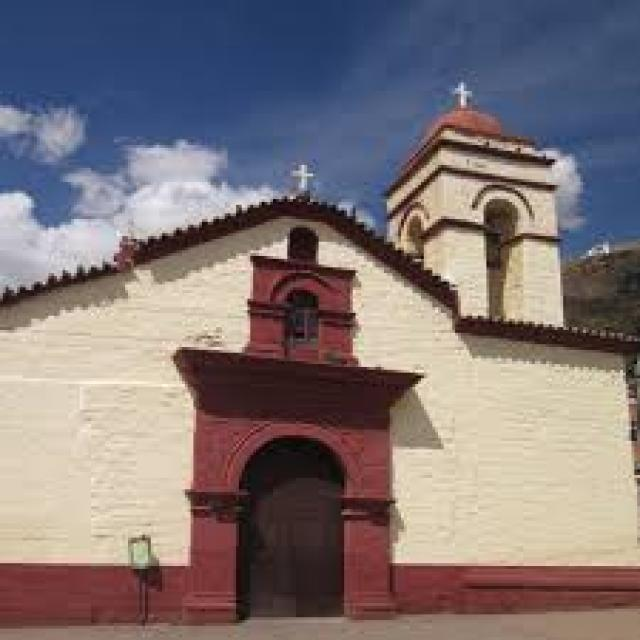CAMPANARIO: (371, 126, 579, 324)
PORTADA CENTRAL: (398, 72, 547, 148)
SIMETRIA COLONIAL: (130, 358, 405, 610)
